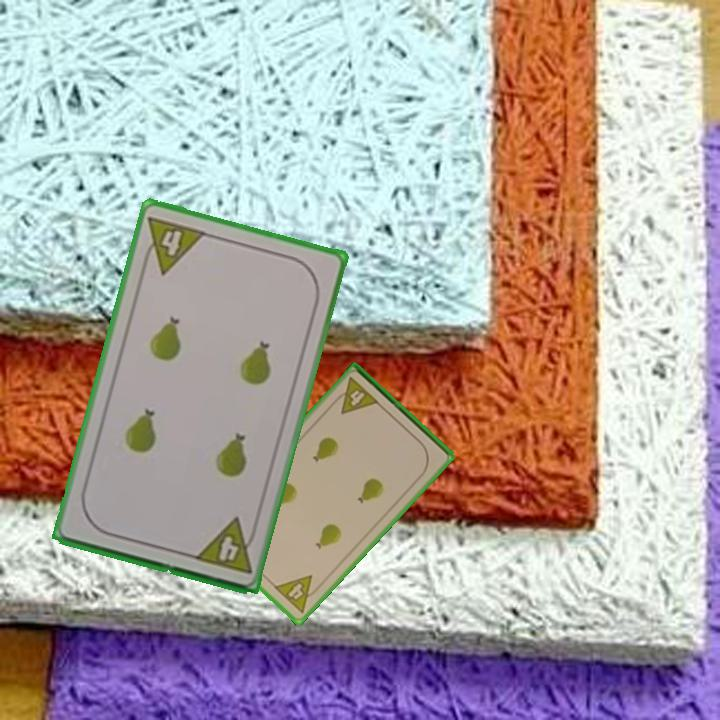4p: (137, 212, 209, 277), (190, 514, 260, 577), (270, 571, 325, 616), (329, 374, 382, 417)
